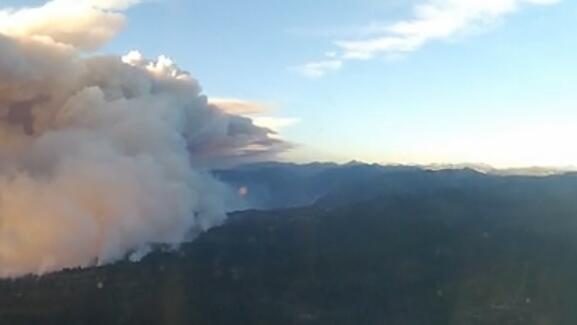yanwu: (0, 1, 271, 287)
